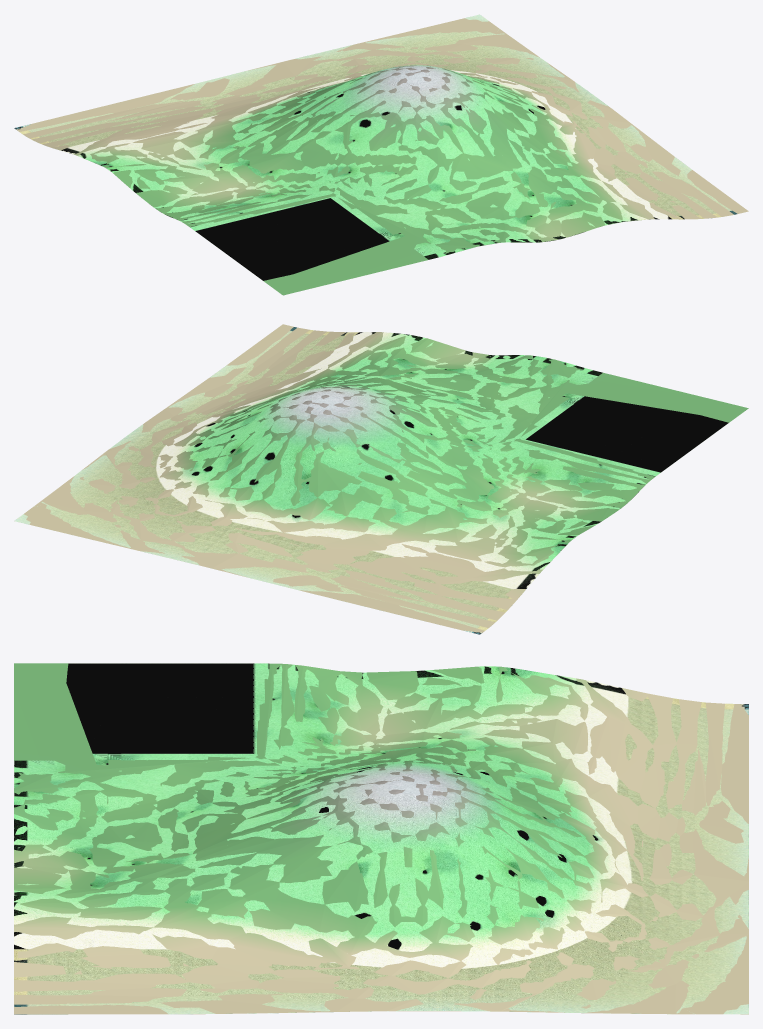
The model's file is IslandQ_en-transformed.glb.
3 renders of one model, top to bottom at view 1: azimuth 30°, elevation 25°; view 2: azimuth 150°, elevation 25°; view 3: azimuth 270°, elevation 25°, orthographic. The views are drawn at different scales.
Parts seen in each view (by area): view 1: IslandQ_p_p_proxy, IslandQ_en; view 2: IslandQ_en, IslandQ_p_p_proxy; view 3: IslandQ_en, IslandQ_p_p_proxy.
Part boxes in pixels (left/top/right/bottom): IslandQ_p_p_proxy: left=17, top=18, right=748, bottom=295; IslandQ_en: left=14, top=14, right=737, bottom=280; IslandQ_en: left=14, top=327, right=728, bottom=634; IslandQ_p_p_proxy: left=24, top=324, right=748, bottom=632; IslandQ_en: left=14, top=663, right=748, bottom=1014; IslandQ_p_p_proxy: left=14, top=663, right=748, bottom=1014.
Size of the model in its own units: 161 by 24.77 by 161.
1 material, 1 textured.
